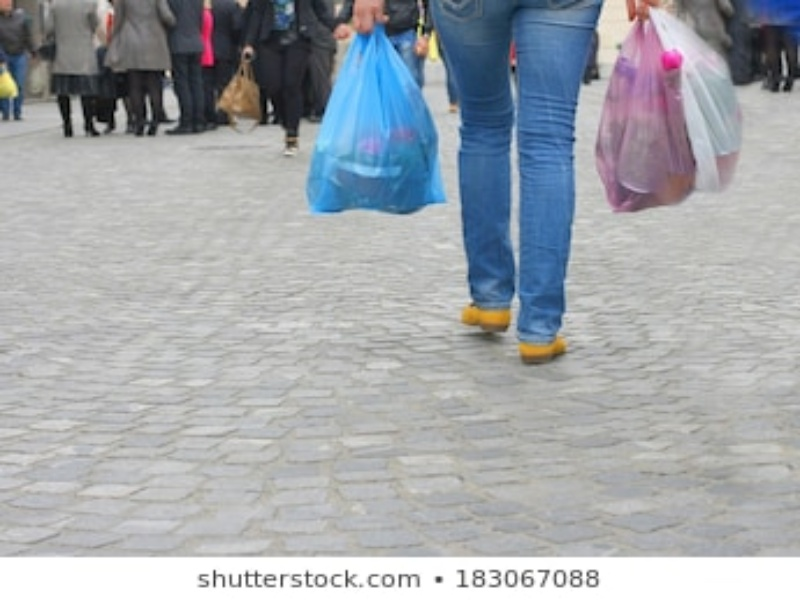plastic-bag: (304, 19, 451, 215), (594, 13, 702, 216), (648, 3, 743, 206)
